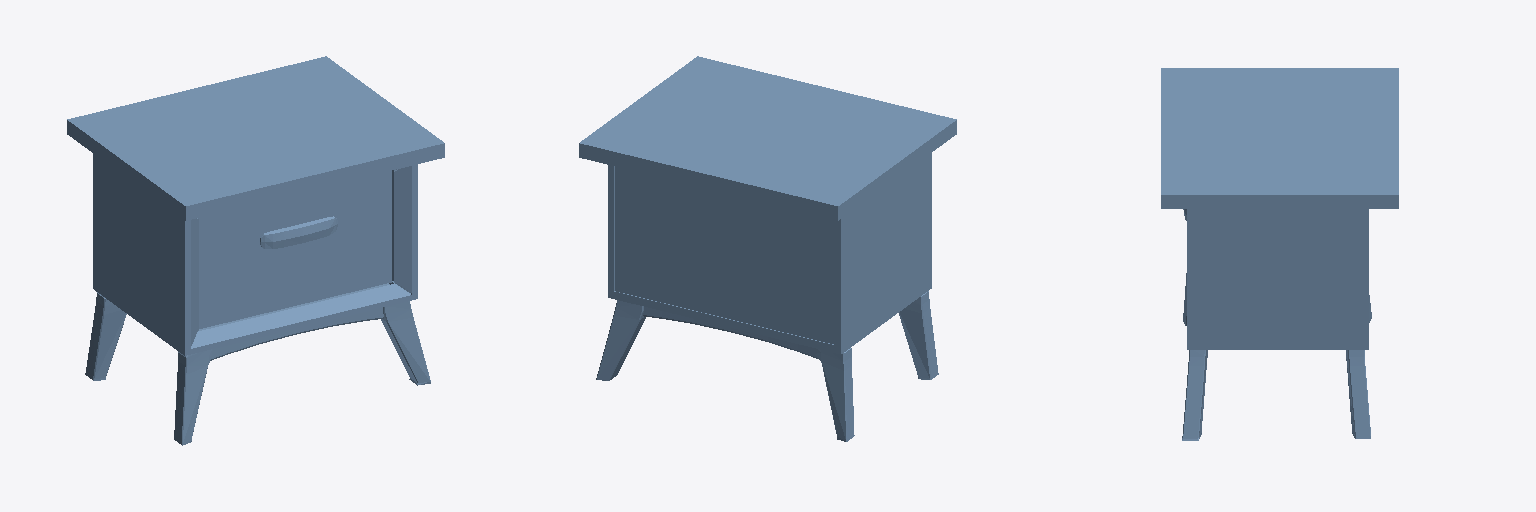
3 views of the same model, side by side, from view 1: azimuth 30°, elevation 25°; view 2: azimuth 150°, elevation 25°; view 3: azimuth 270°, elevation 25° (orthographic).
Parts seen in each view (by area): view 1: MesaNoche:Mesh_pasted__polySurface2; view 2: MesaNoche:Mesh_pasted__polySurface2; view 3: MesaNoche:Mesh_pasted__polySurface2.
Boxes of the visible parts, <box> form: MesaNoche:Mesh_pasted__polySurface2: <box>67,56,444,445</box>; MesaNoche:Mesh_pasted__polySurface2: <box>579,56,956,441</box>; MesaNoche:Mesh_pasted__polySurface2: <box>1161,68,1398,440</box>.
Bounding box in the file's own units: 0.9259 × 0.8497 × 0.7334.
Materials: 1 (1 with a texture image).